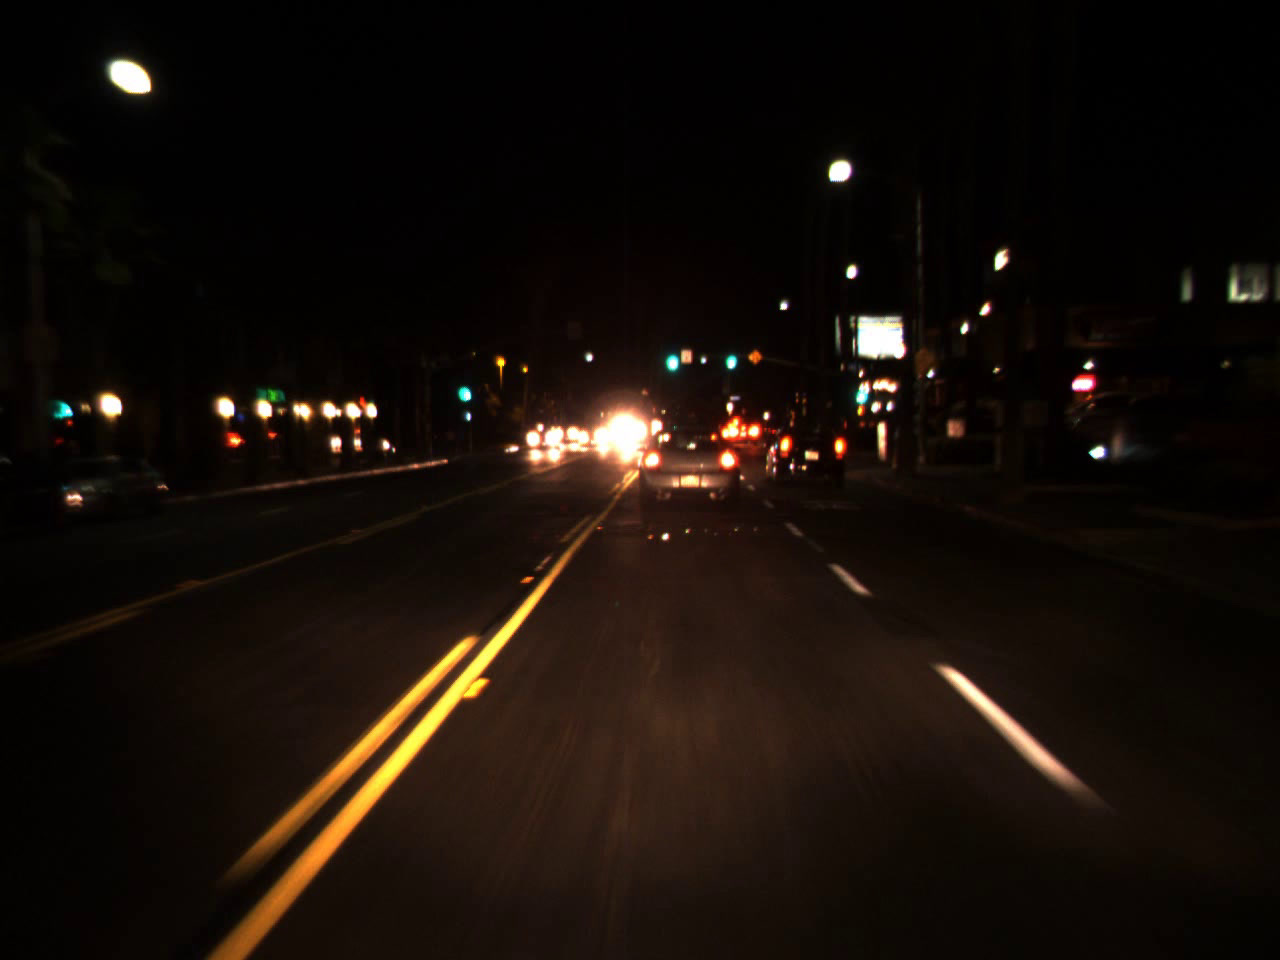go: (848, 370, 871, 409), (663, 335, 681, 377), (454, 368, 472, 407), (721, 341, 739, 371)
